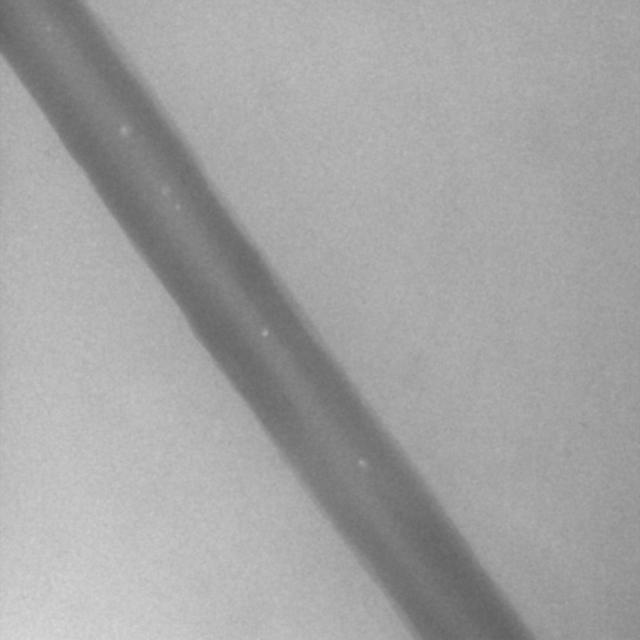air-hole: (121, 122, 133, 136), (359, 458, 372, 466), (160, 184, 170, 192), (178, 206, 186, 216), (262, 328, 270, 336)
